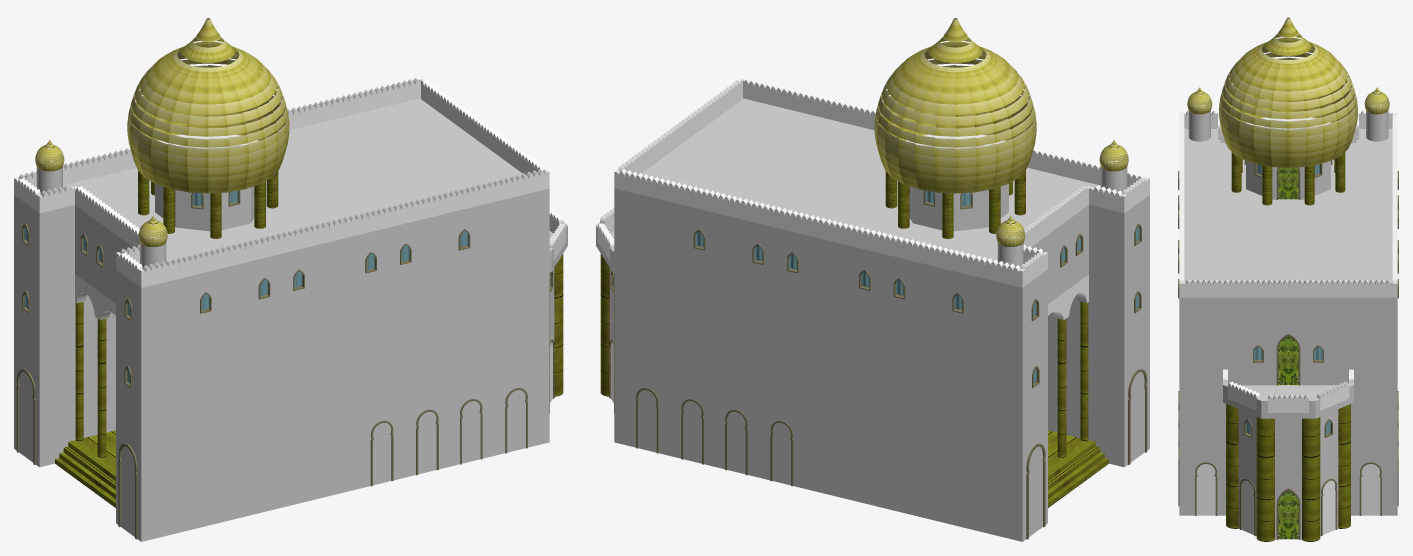
File: Tempel_der_Mondschleier.dae
3 renders of one model, left to right at view 1: azimuth 30°, elevation 25°; view 2: azimuth 150°, elevation 25°; view 3: azimuth 270°, elevation 25°, orthographic. The views are drawn at different scales.
Parts seen in each view (by area): view 1: Phextemple_Haelfte2, Phextemple_Haelfte1, Zwiebelturmdach__Segment_1 (×9), Saeule (×3), Zwiebelturmdach__Segment_1_1_2; view 2: Phextemple_Haelfte1, Phextemple_Haelfte2, Zwiebelturmdach__Segment_1_1_2 (×9), Saeule12 (×3), Zwiebelturmdach__Segment_1; view 3: Phextemple_Haelfte1, Phextemple_Haelfte2, Zwiebelturmdach__Segment_1_1_2 (×6), Zwiebelturmdach__Segment_1 (×6), Saeule12 (×3), Saeule (×3), Zwiebelturm, Zwiebelturm12, Spitztuer1, Spitztuer4, Spitztuer3, Spitztuer6 (+2 smaller).
Part boxes in pixels (<box>): Phextemple_Haelfte2: <box>93,143,567,541</box>; Phextemple_Haelfte1: <box>14,98,480,491</box>; Zwiebelturmdach__Segment_1 (×9): <box>138,19,286,193</box>; Saeule (×3): <box>75,254,563,457</box>; Zwiebelturmdach__Segment_1_1_2: <box>130,19,206,177</box>; Phextemple_Haelfte1: <box>596,143,1070,541</box>; Phextemple_Haelfte2: <box>683,98,1149,491</box>; Zwiebelturmdach__Segment_1_1_2 (×9): <box>877,19,1025,193</box>; Saeule12 (×3): <box>600,254,1088,457</box>; Zwiebelturmdach__Segment_1: <box>957,19,1033,177</box>; Phextemple_Haelfte1: <box>1288,126,1397,539</box>; Phextemple_Haelfte2: <box>1179,126,1288,539</box>; Zwiebelturmdach__Segment_1_1_2 (×6): <box>1288,19,1357,167</box>; Zwiebelturmdach__Segment_1 (×6): <box>1219,19,1288,167</box>; Saeule12 (×3): <box>1302,165,1350,541</box>; Saeule (×3): <box>1226,165,1274,541</box>; Zwiebelturm: <box>1366,105,1388,141</box>; Zwiebelturm12: <box>1188,106,1210,141</box>; Spitztuer1: <box>1288,488,1300,539</box>; Spitztuer4: <box>1276,488,1288,539</box>; Spitztuer3: <box>1288,334,1300,385</box>; Spitztuer6: <box>1276,334,1288,385</box>.
Bounding box in the file's own units: 23.95 × 11.22 × 21.63.
